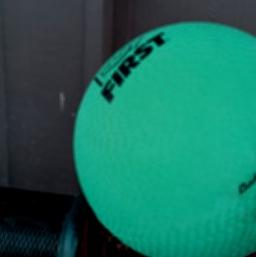algae: (67, 17, 256, 257)
